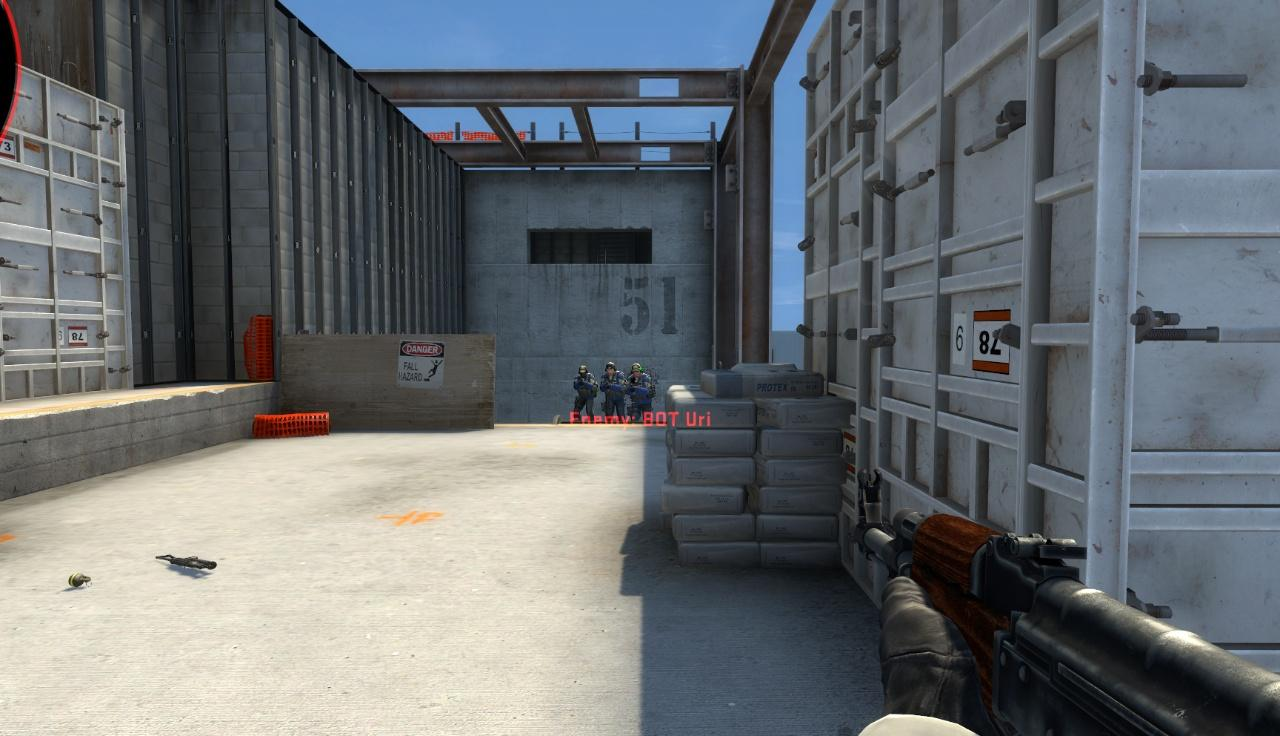ct: (572, 365, 600, 422), (600, 362, 626, 423), (626, 362, 652, 422)
cthead: (631, 362, 642, 379), (606, 362, 615, 376), (578, 365, 588, 377)
rifle: (854, 469, 1280, 734)
